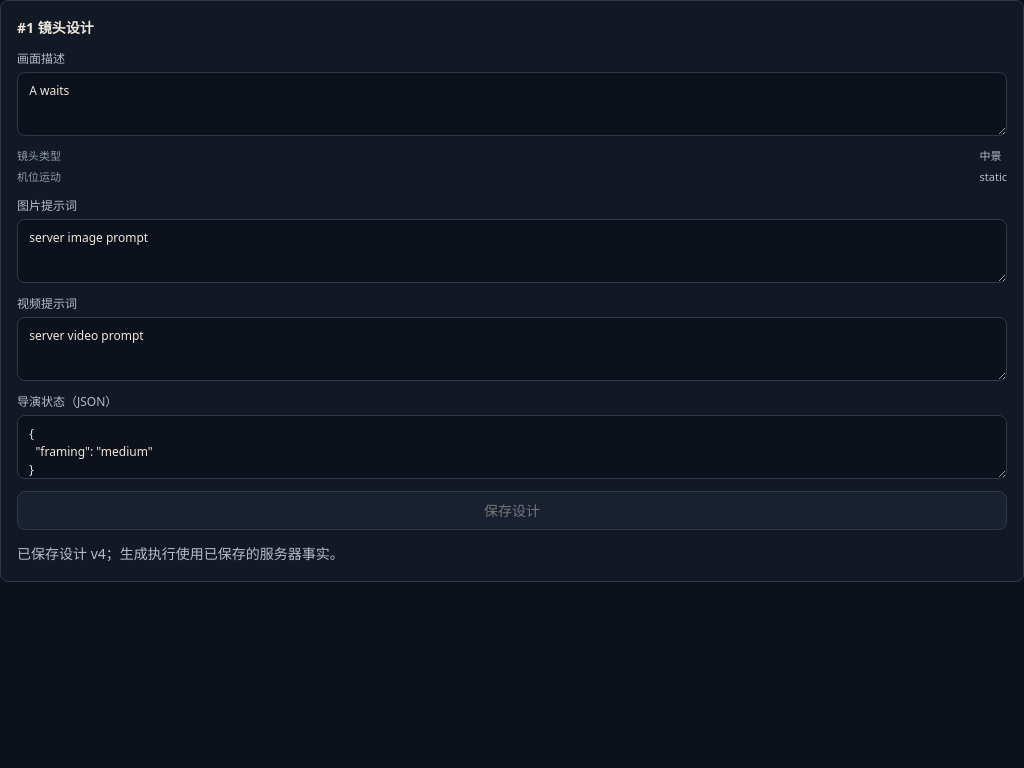
Test: ShotDesignPanel save feedback › never marks the draft clean or adopts the response version on its own
Replace the text in the text box labelled "图片提示词" with "local draft prompt" at (512, 251), box [17,219,1007,283]
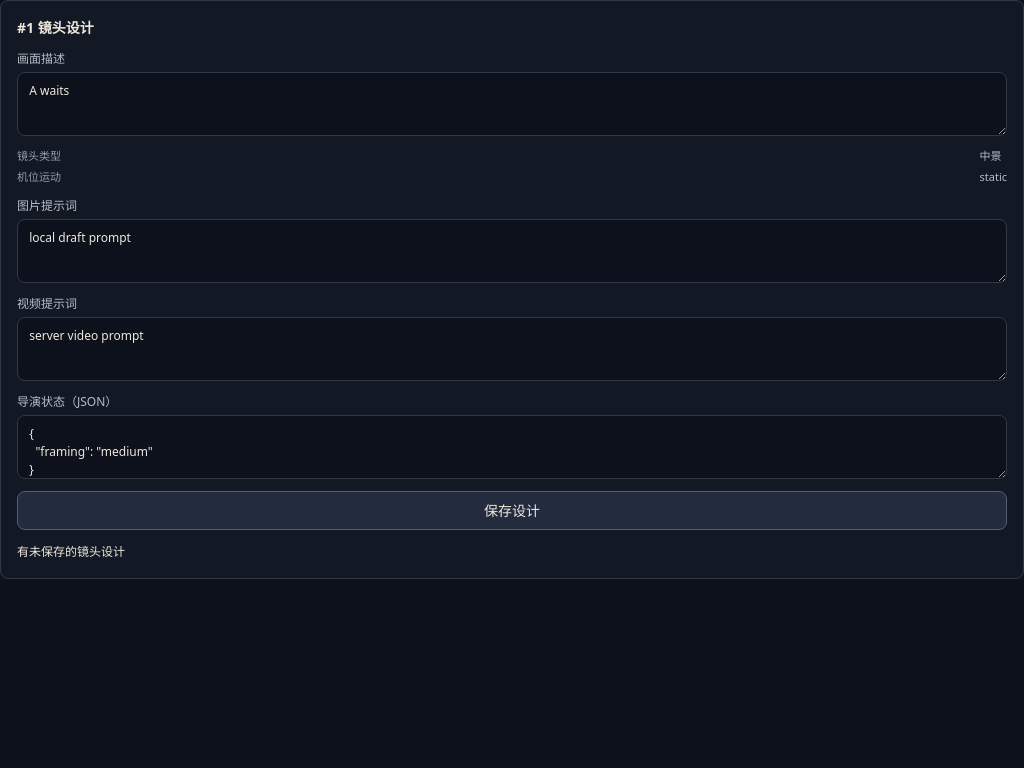
Click the button with test id "save-shot-design" at (512, 510), box [17,491,1007,530]
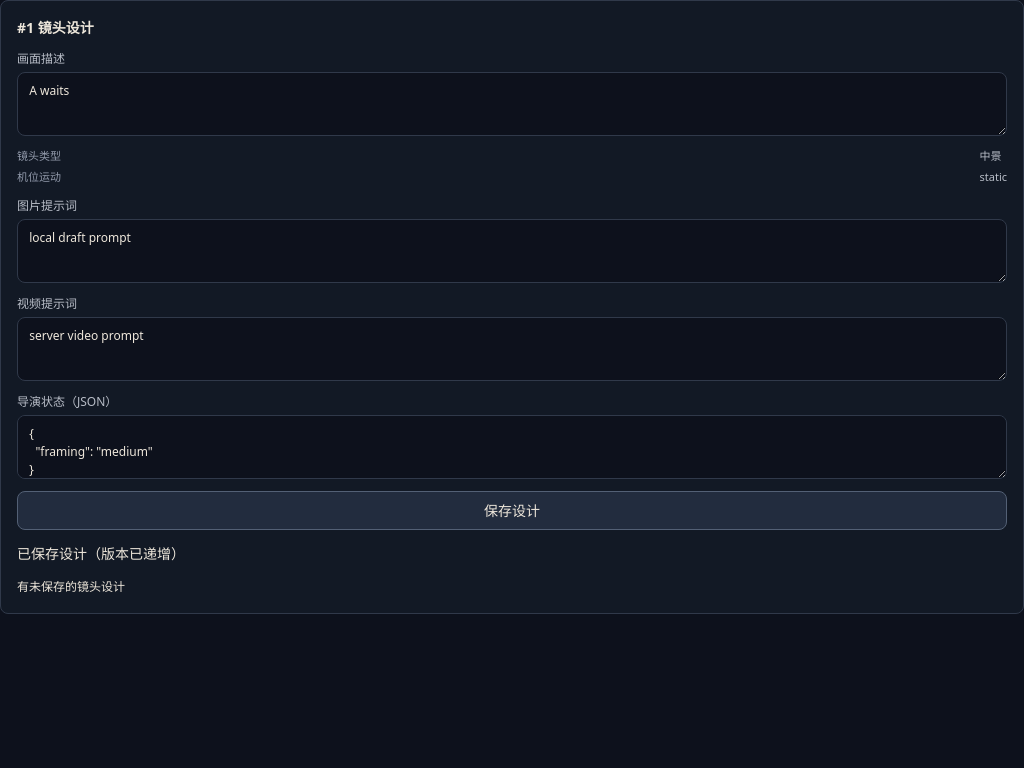
Now the message "有未保存的镜头设计" is shown, box [17,578,125,595]
Now the text with test id "shot-design-message" shows "已保存设计", box [17,544,185,563]
